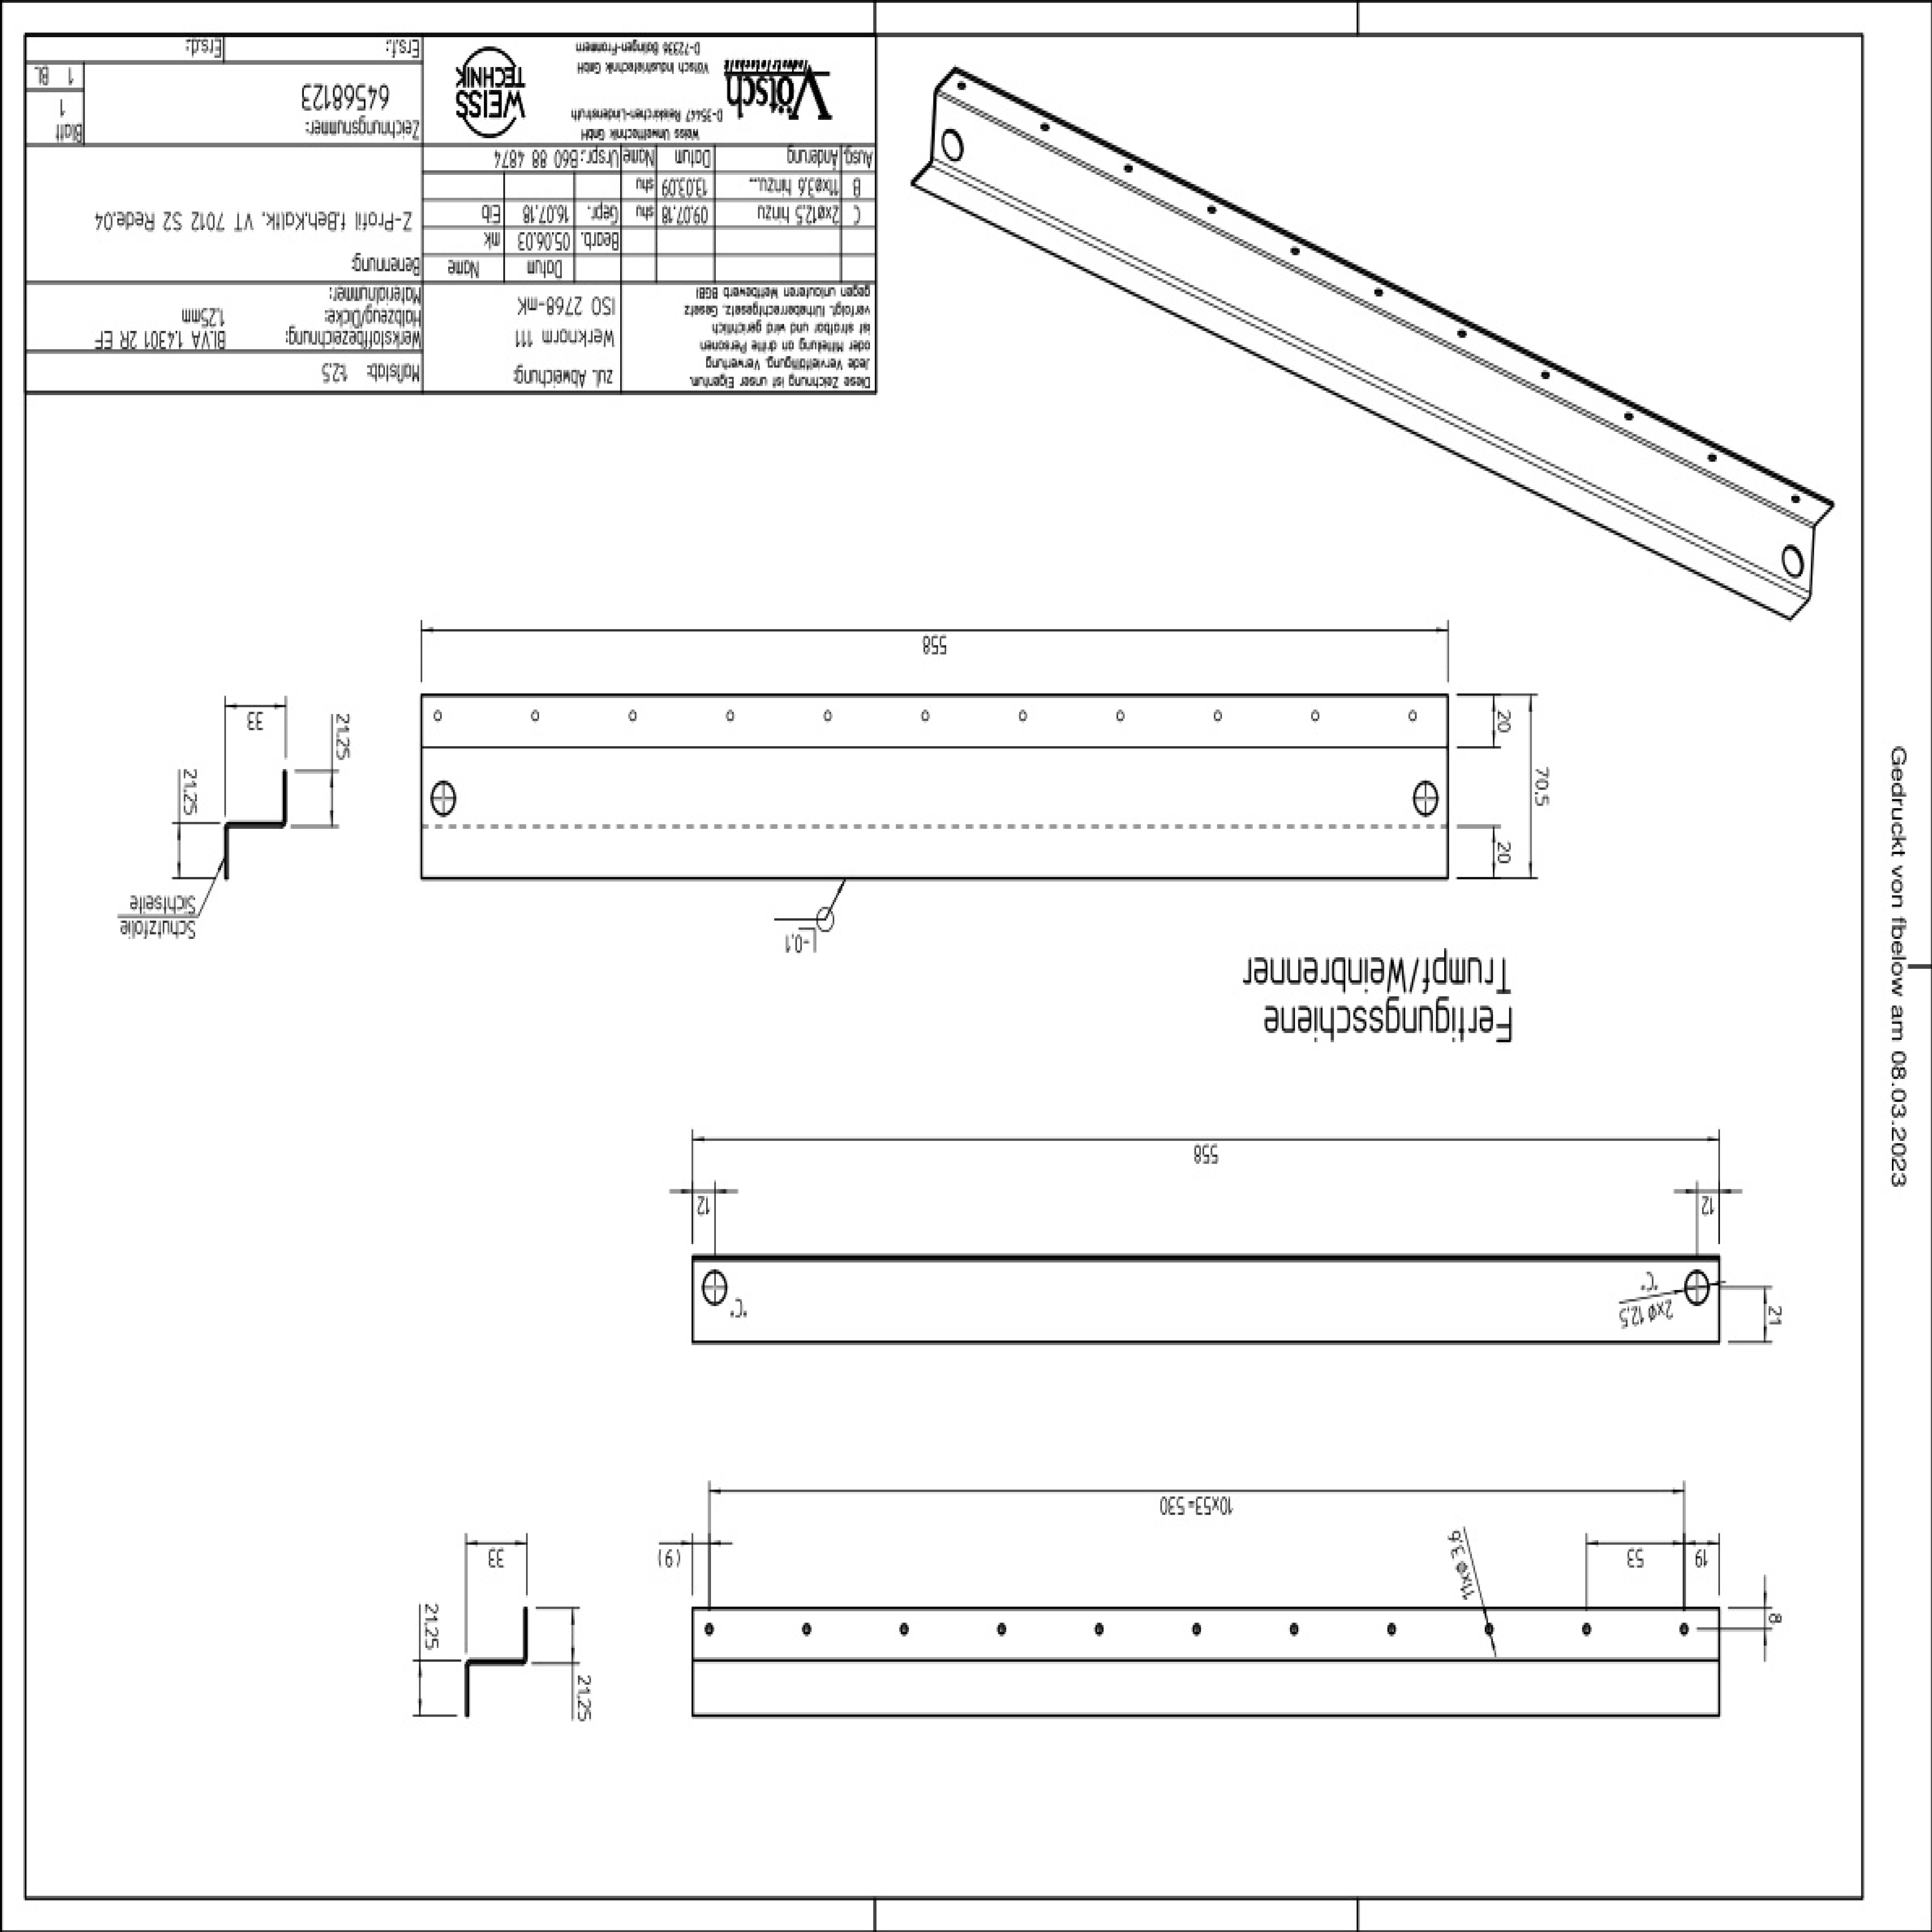InnerContour: (1683, 1265, 1713, 1311), (1412, 777, 1442, 817), (1778, 538, 1805, 580), (699, 1267, 727, 1306), (432, 777, 458, 817), (943, 126, 964, 163)
